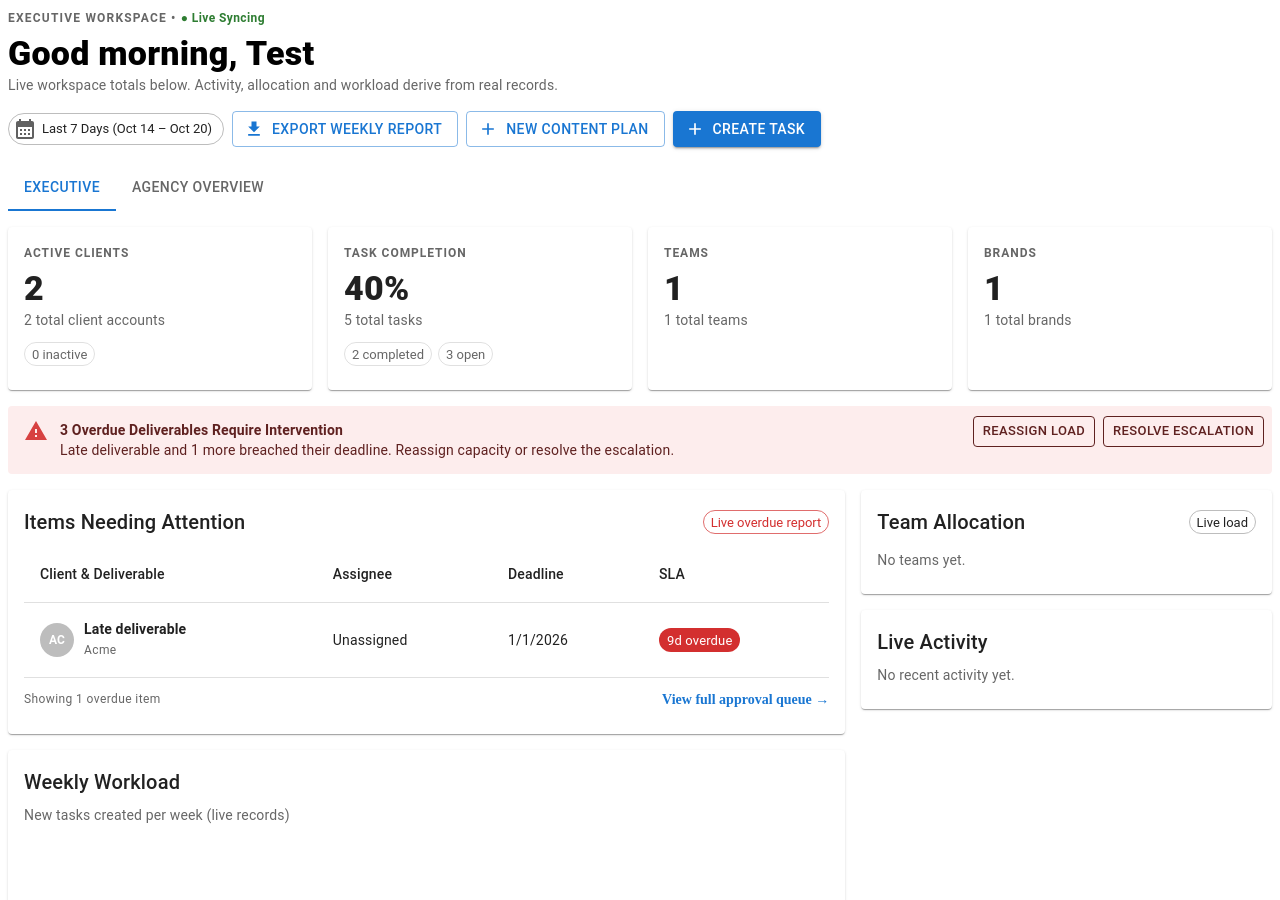
Test case: DashboardPage › shows and dismisses the escalation banner when work is overdue
The width and height of the screenshot is (1280, 900).
Expected: the text "3 Overdue Deliverables Require Intervention" is shown, top-left (60, 422), bottom-right (343, 438)
Click the button "Resolve Escalation" at (1184, 432), box top-left (1103, 416), bottom-right (1264, 447)
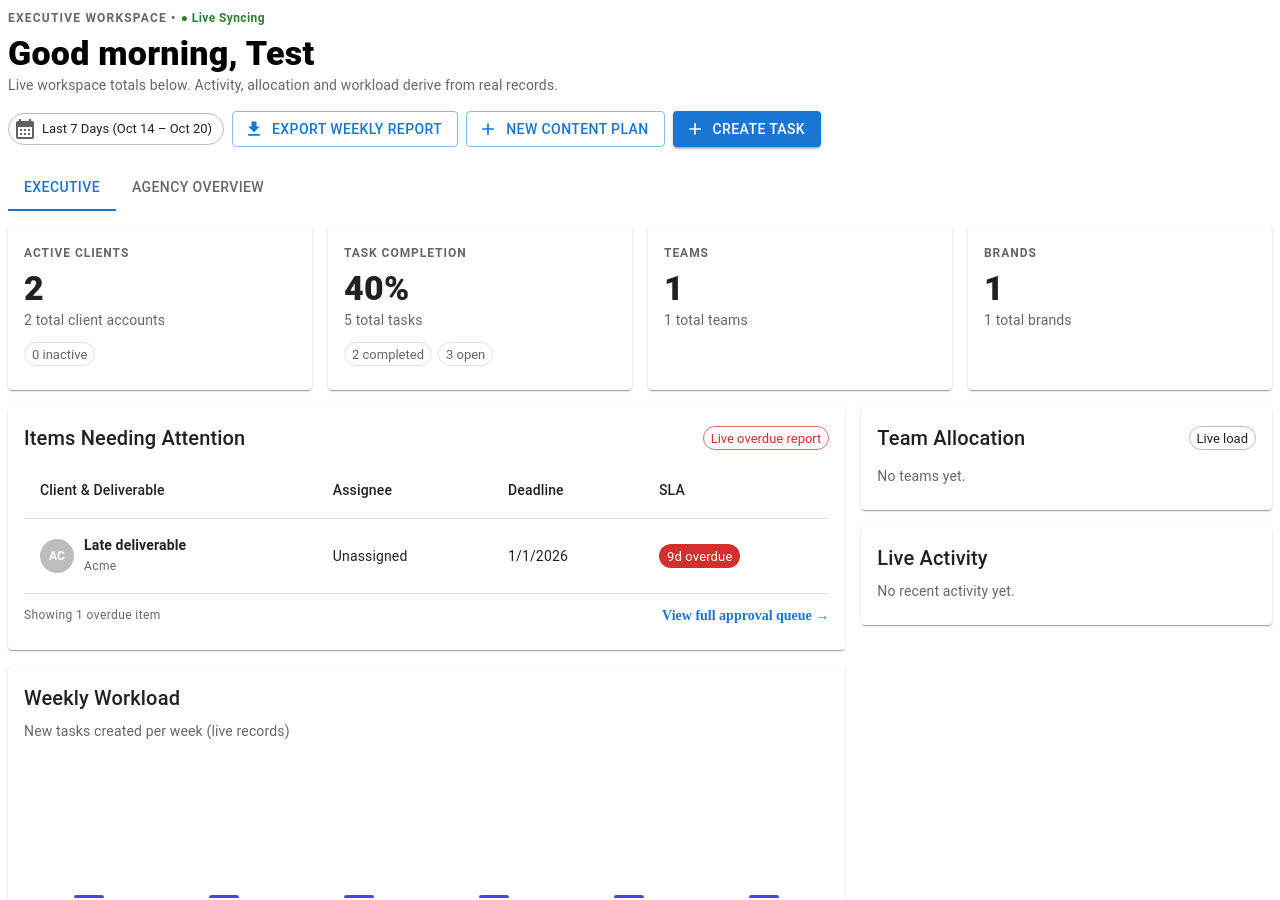
Now the text "Overdue Deliverables Require Intervention" is gone
